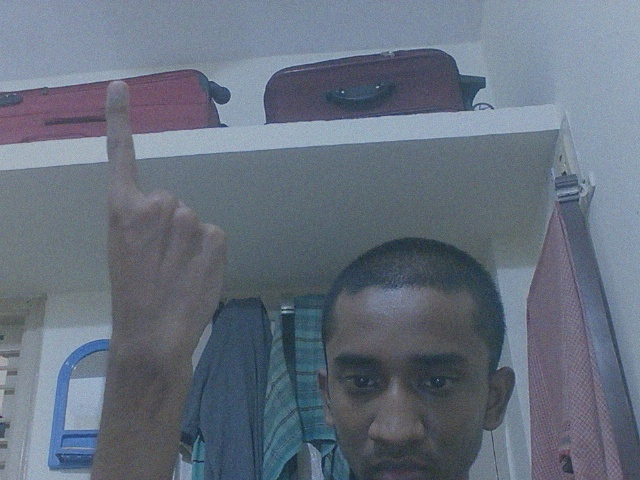hand: (103, 75, 231, 381)
